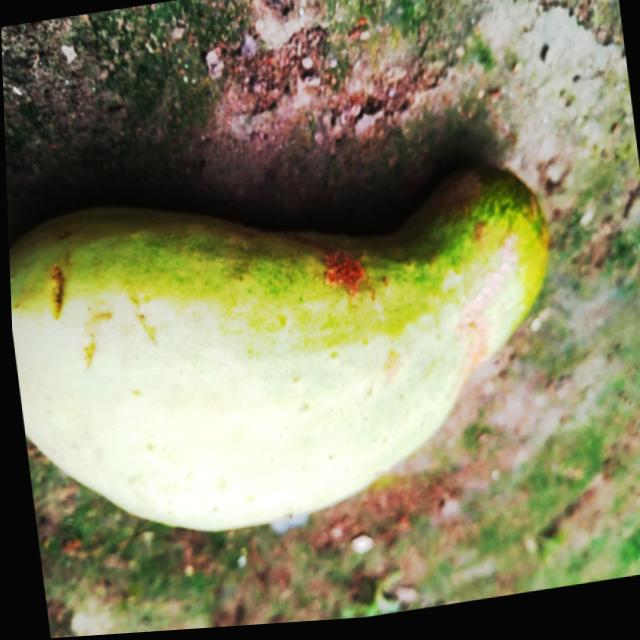Belly-Rot: (435, 210, 532, 399), (280, 220, 373, 317), (370, 349, 404, 389)
